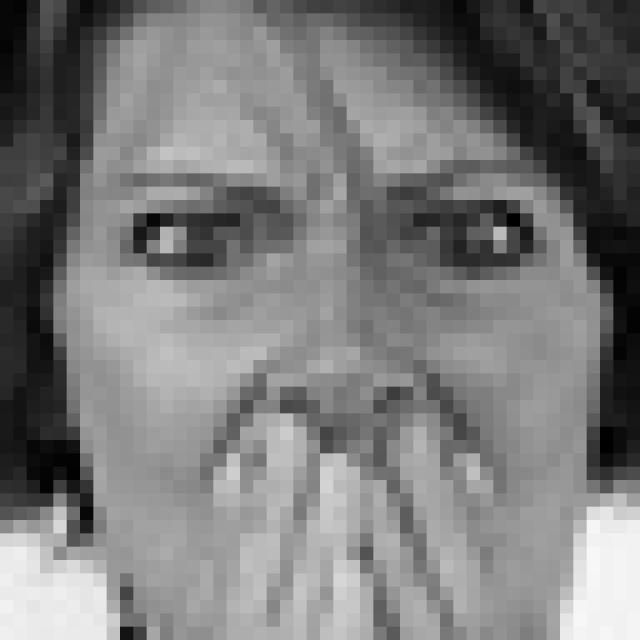fear: (98, 149, 558, 586)
